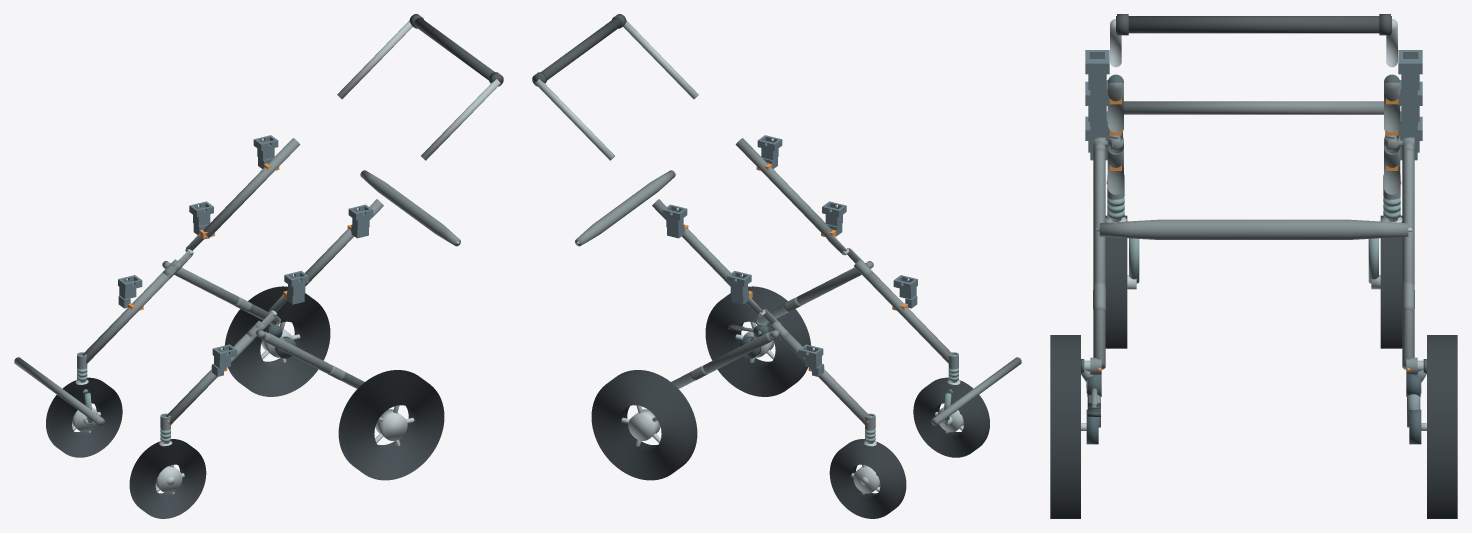
Rendered from w650_state5_wheel_L.glb.
3 views of the same model, side by side, from view 1: azimuth 30°, elevation 25°; view 2: azimuth 150°, elevation 25°; view 3: azimuth 270°, elevation 25° (orthographic). The views are drawn at different scales.
Parts seen in each view (by area): view 1: RL_tire.015, RR_tire.015, FL_tire.015, FR_tire.015, V46_rearbar.013, main_upper_1.014, main_lower_1.014, round_handle.015, V46_rear_leg_-1.013, front_fixed_round_tube.014, V46_rear_leg_1.013, main_lower_-1.014 (+9 smaller); view 2: RR_tire.015, RL_tire.015, FR_tire.015, FL_tire.015, V46_rearbar.013, main_upper_-1.014, main_lower_-1.014, round_handle.015, V46_rear_leg_1.013, V46_rear_leg_-1.013, front_fixed_round_tube.014, main_lower_1.014 (+10 smaller); view 3: V46_rearbar.013, RL_tire.015, RR_tire.015, round_handle.015, front_fixed_round_tube.014, FL_tire.015, FR_tire.015, V46_rear_leg_1.013, V46_rear_leg_-1.013, Universal_Cabin_Receiver_H_1, Universal_Cabin_Receiver_H_-1, main_upper_1.014 (+9 smaller).
Boxes of the visible parts, x1,y1,x2,y2 form: RL_tire.015: (338,370,444,480); RR_tire.015: (224,286,330,396); FL_tire.015: (129,439,206,518); FR_tire.015: (46,377,122,457); V46_rearbar.013: (360,170,460,246); main_upper_1.014: (203,138,300,238); main_lower_1.014: (82,269,175,363); round_handle.015: (414,17,502,85); V46_rear_leg_-1.013: (263,332,364,388); front_fixed_round_tube.014: (14,357,104,425); V46_rear_leg_1.013: (174,267,278,325); main_lower_-1.014: (166,333,255,424); RR_tire.015: (591,370,697,480); RL_tire.015: (705,286,811,396); FR_tire.015: (829,439,906,518); FL_tire.015: (913,377,989,457); V46_rearbar.013: (575,170,675,246); main_upper_-1.014: (735,138,832,238); main_lower_-1.014: (860,269,953,363); round_handle.015: (533,17,621,85); V46_rear_leg_1.013: (671,332,772,388); V46_rear_leg_-1.013: (757,267,861,325); front_fixed_round_tube.014: (931,357,1021,425); main_lower_1.014: (780,333,869,424); V46_rearbar.013: (1099,219,1408,239); RL_tire.015: (1050,335,1080,518); RR_tire.015: (1427,335,1457,518); round_handle.015: (1116,16,1391,33); front_fixed_round_tube.014: (1124,101,1383,114); FL_tire.015: (1105,215,1127,348); FR_tire.015: (1380,215,1402,348); V46_rear_leg_1.013: (1402,148,1414,369); V46_rear_leg_-1.013: (1093,148,1105,369); Universal_Cabin_Receiver_H_1: (1398,50,1422,104); Universal_Cabin_Receiver_H_-1: (1085,50,1109,104); main_upper_1.014: (1384,82,1400,132).
Size of the model in its own units: 1.51 by 1.28 by 0.796.
